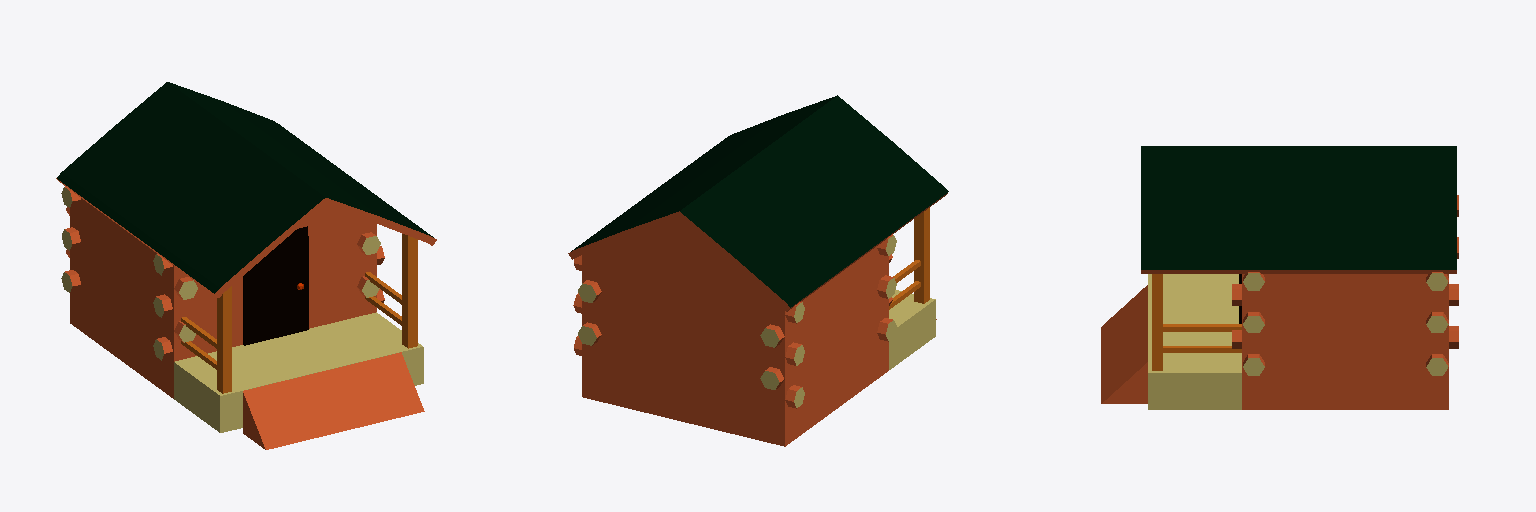
File: aqua_house.obj
3 renders of one model, left to right at view 1: azimuth 30°, elevation 25°; view 2: azimuth 150°, elevation 25°; view 3: azimuth 270°, elevation 25°, orthographic.
Parts seen in each view (by area): view 1: aqua_house; view 2: aqua_house; view 3: aqua_house.
Boxes of the visible parts, x1,y1,x2,y2 form: aqua_house: [56, 82, 436, 449]; aqua_house: [568, 95, 948, 446]; aqua_house: [1101, 146, 1458, 409].
Size of the model in its own units: 10.96 by 10.31 by 15.25.